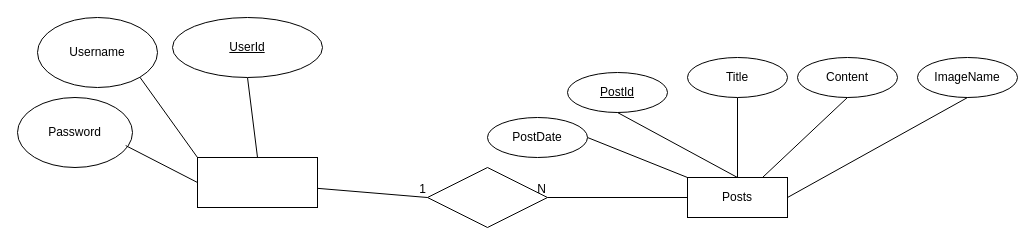
The diagram is 1035 pixels wide and 245 high, and some of its shapes have lost their labels. The box of each missing label's shape, as (x1, y1, x2, y2) in pixels:
Have: (426, 166, 548, 228)
User: (196, 156, 318, 208)
